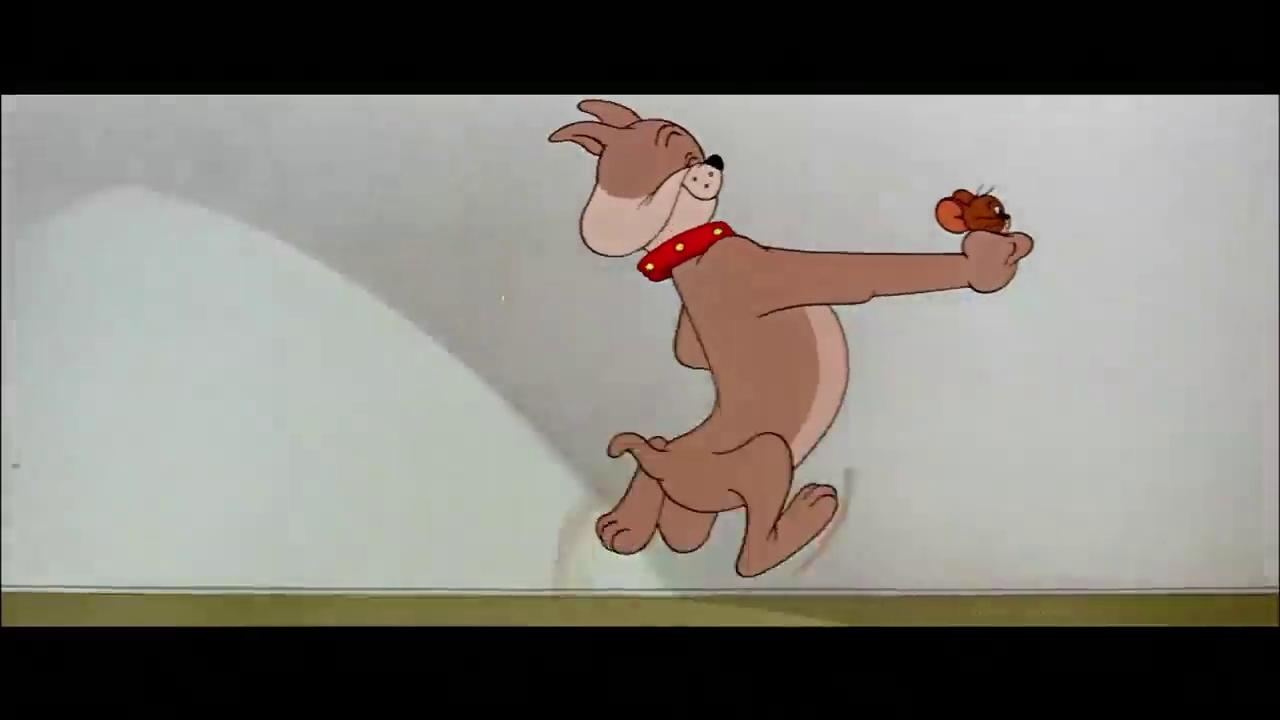Jerry: (933, 182, 1019, 244)
